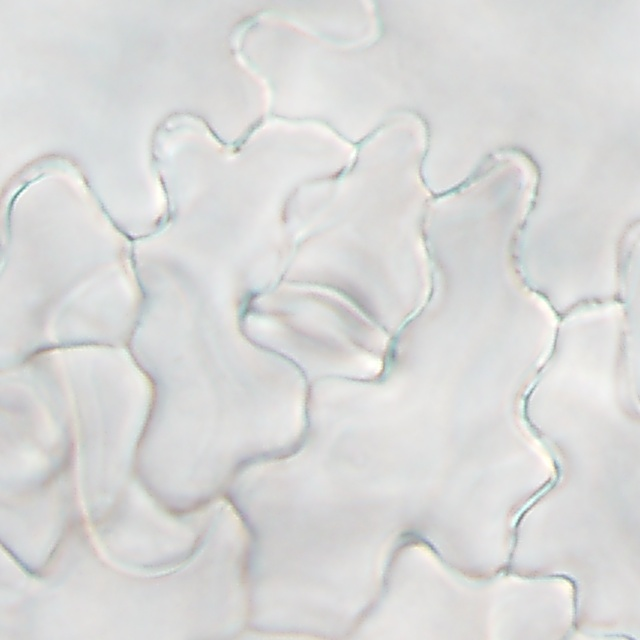center: (272, 294, 371, 355), (2, 417, 70, 428), (605, 269, 640, 273), (261, 634, 299, 636)
stomata-huw1: (235, 248, 402, 397), (1, 347, 71, 498), (618, 218, 639, 324), (237, 631, 323, 639)
